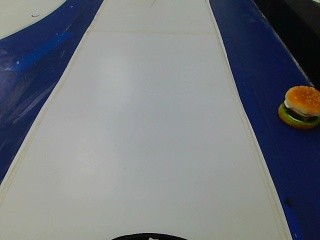burger: (276, 84, 319, 127)
